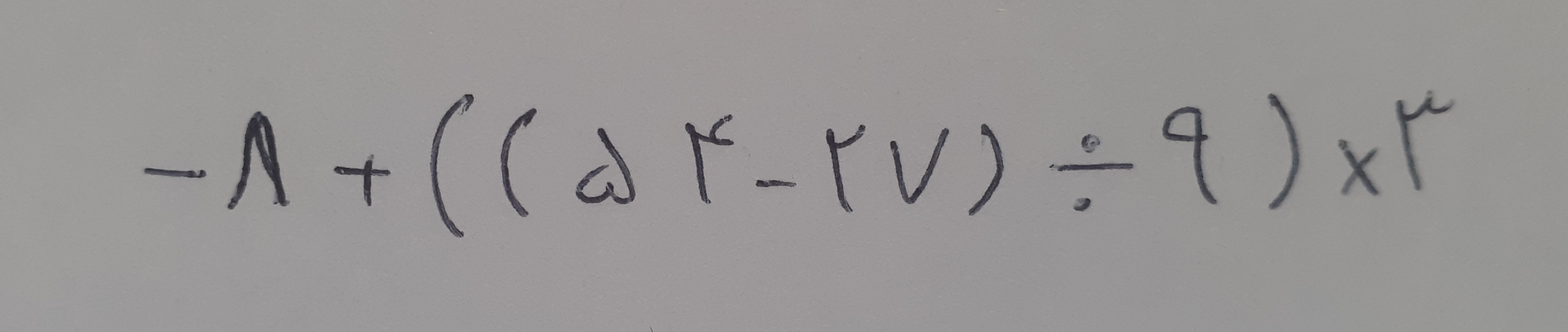character: (430, 93, 475, 237), (1050, 133, 1133, 211), (226, 110, 290, 210), (1396, 90, 1454, 190), (1163, 107, 1216, 205), (576, 127, 636, 204), (891, 127, 949, 205), (685, 113, 734, 205), (500, 107, 538, 218), (1266, 94, 1301, 210), (826, 123, 867, 213), (967, 123, 1005, 217), (333, 153, 392, 205), (1336, 139, 1379, 196), (140, 166, 207, 180), (755, 178, 796, 190)
